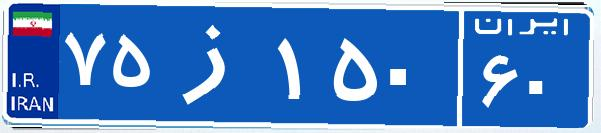0: (385, 28, 445, 110), (525, 38, 570, 115)
1: (273, 28, 330, 110)
5: (330, 28, 385, 110), (110, 28, 158, 105)
6: (475, 38, 525, 113)
7: (57, 26, 110, 107)
ز: (158, 15, 273, 115)
